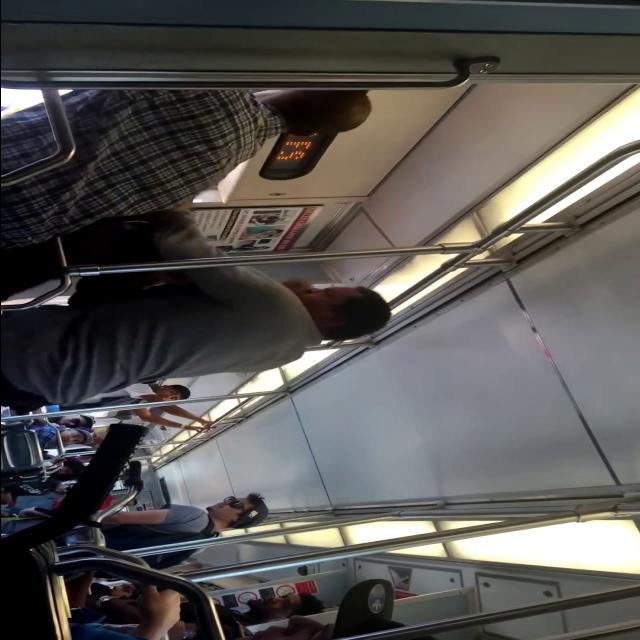NonViolence: (117, 489, 273, 571)
Violence: (0, 92, 392, 406)
